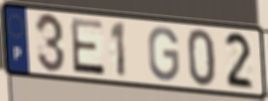0: (186, 27, 218, 89)
1: (107, 20, 127, 80)
2: (223, 30, 257, 94)
3: (33, 11, 67, 75)
E: (69, 16, 107, 78)
G: (147, 25, 181, 84)
